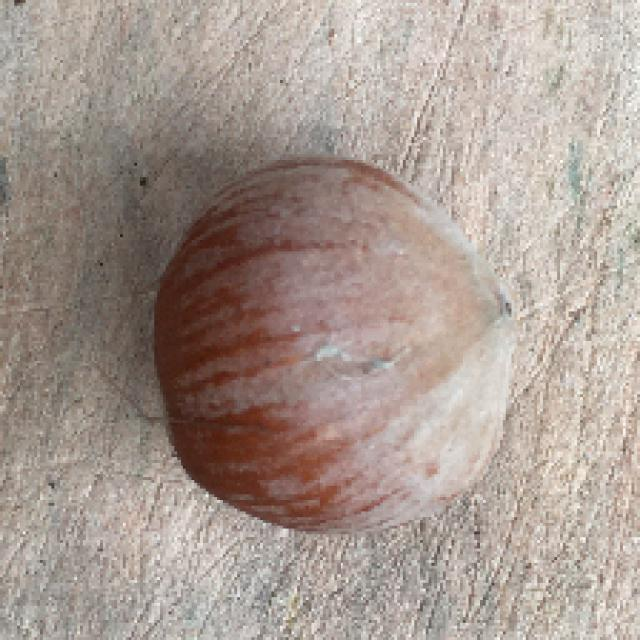qualityHazelnut: (147, 158, 525, 540)
